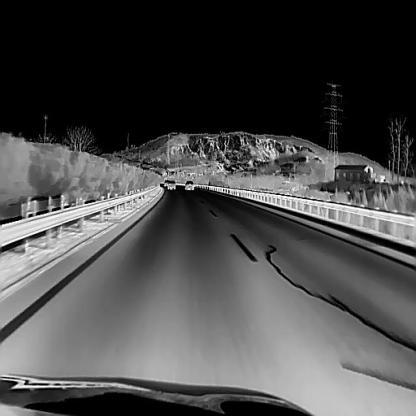car: (184, 180, 194, 190), (166, 179, 175, 189), (163, 178, 168, 185)
